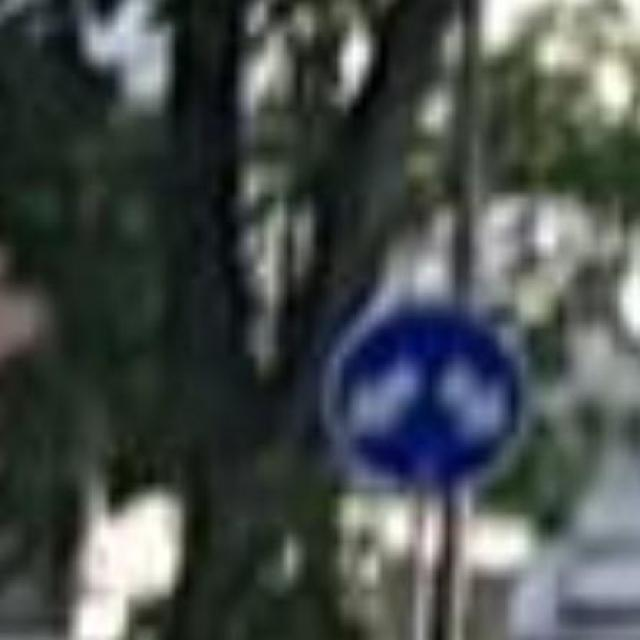traffic sign: (320, 301, 531, 491)
